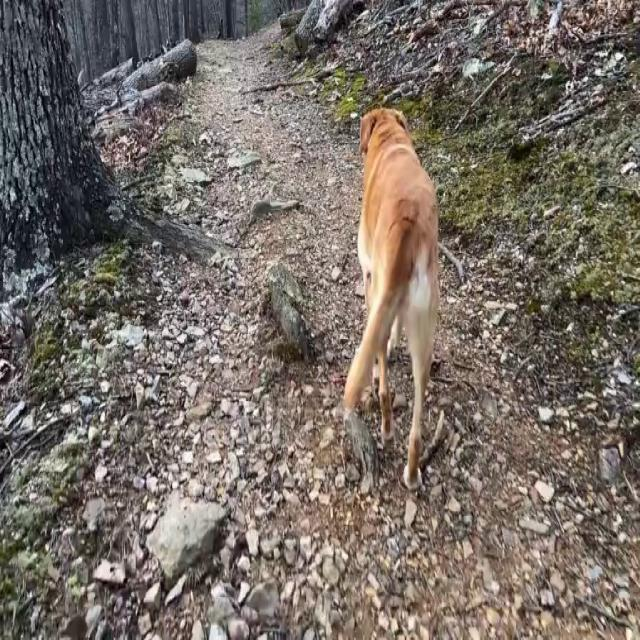normal_animals: (339, 102, 444, 494)
